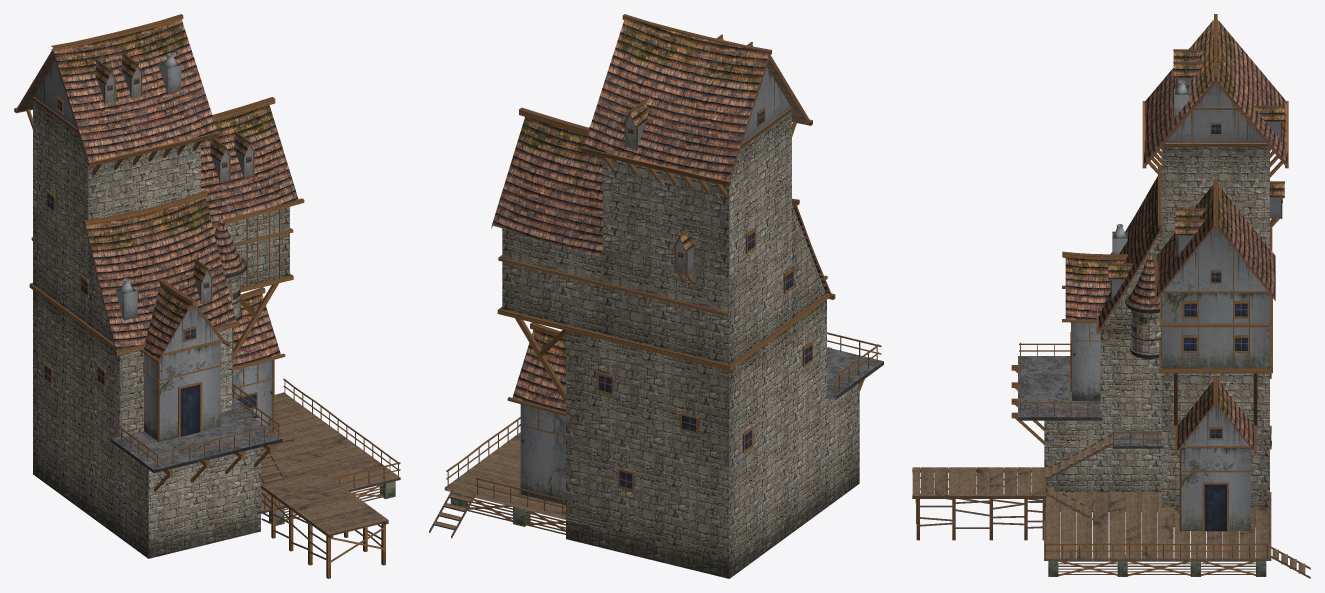
Rendered from background_house2.glb.
The picture shows the model from 3 angles, left to right: view 1: azimuth 30°, elevation 25°; view 2: azimuth 150°, elevation 25°; view 3: azimuth 270°, elevation 25°; orthographic projection. The views are drawn at different scales.
Parts seen in each view (by area): view 1: house_Material #27_0; view 2: house_Material #27_0; view 3: house_Material #27_0.
Boxes of the visible parts, left/top/right/bottom form: house_Material #27_0: left=14, top=14, right=400, bottom=578; house_Material #27_0: left=429, top=14, right=883, bottom=578; house_Material #27_0: left=912, top=14, right=1310, bottom=578.
Size of the model in its own units: 10.46 by 17.36 by 14.12.
Materials: 1 (1 with a texture image).
